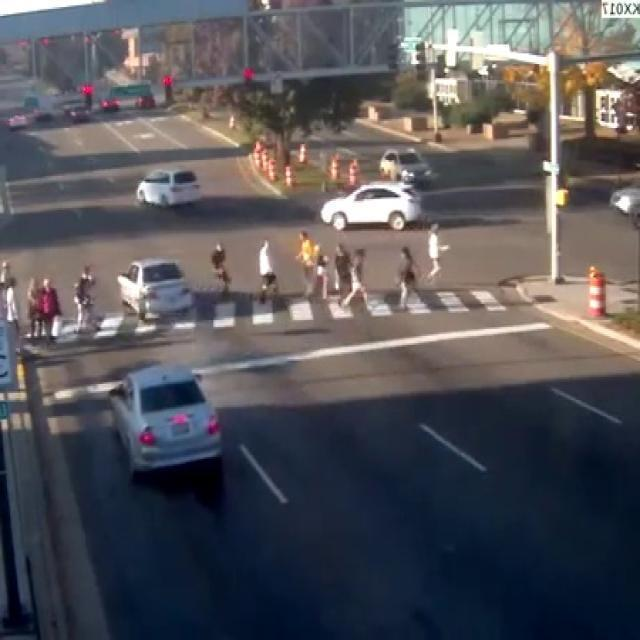car: (117, 375, 230, 488)
red_light: (160, 73, 172, 104), (79, 81, 92, 109)
stop_line: (51, 320, 546, 392)
